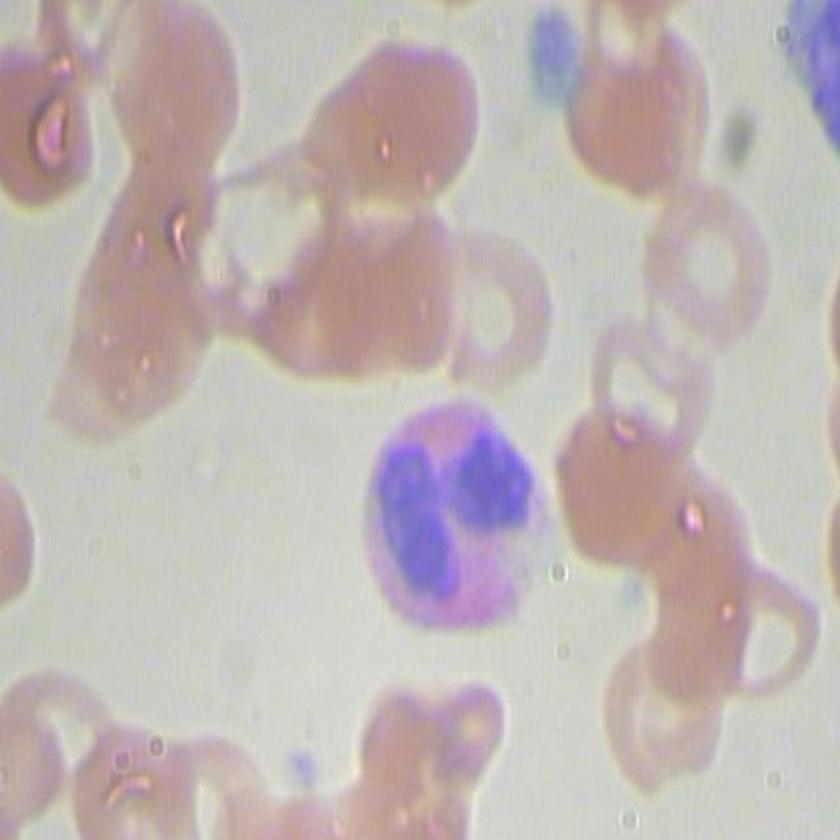eosinophil: (361, 395, 554, 635)
